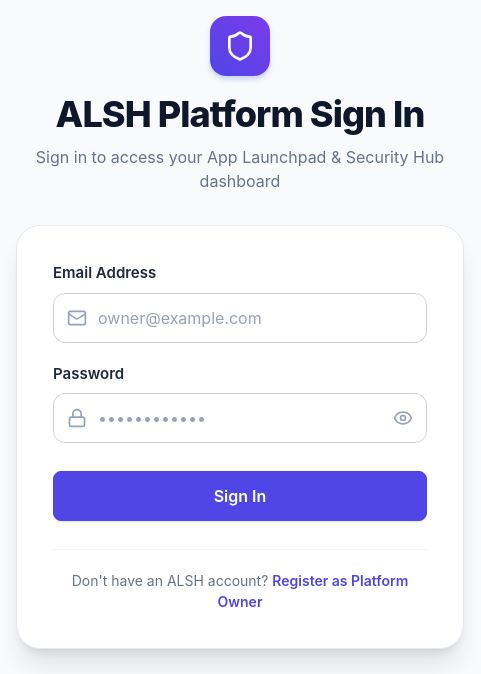
Scenario: Frontend Shell & Authentication Flows › Login Flow › should display error message on invalid credentials without crashing
Type "bad@example.com" into the field with placeholder "owner@example.com" at (240, 318), box left=53, top=292, right=427, bottom=342
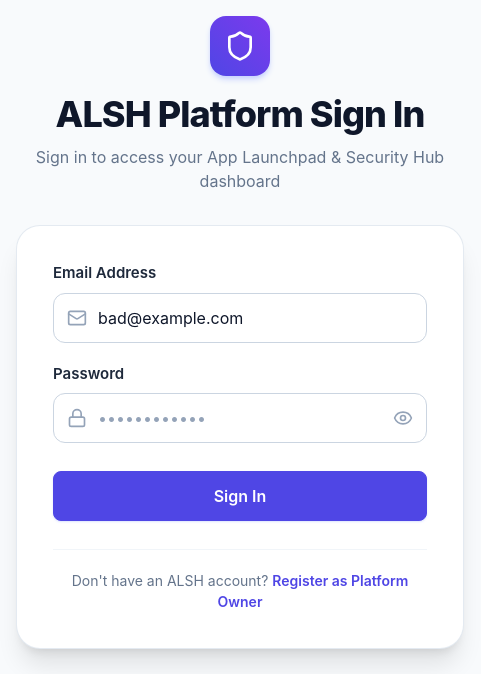
Type "wrongpass" into the password field with placeholder "••••••••••••" at (240, 418), box left=53, top=393, right=427, bottom=443
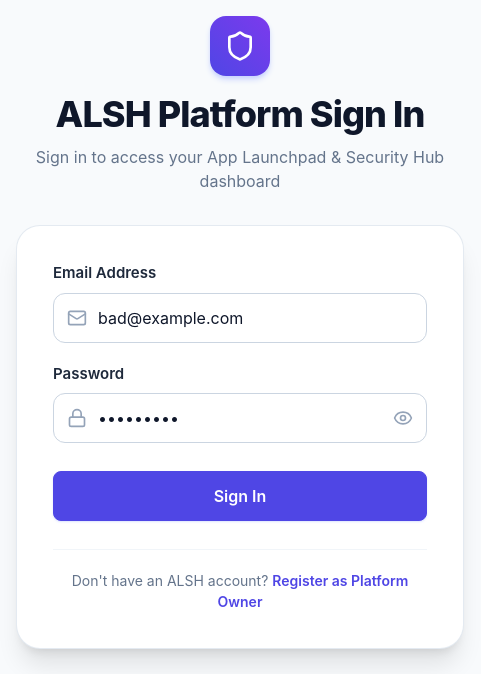
Click the button "Sign In" at (240, 496), box left=53, top=471, right=427, bottom=521
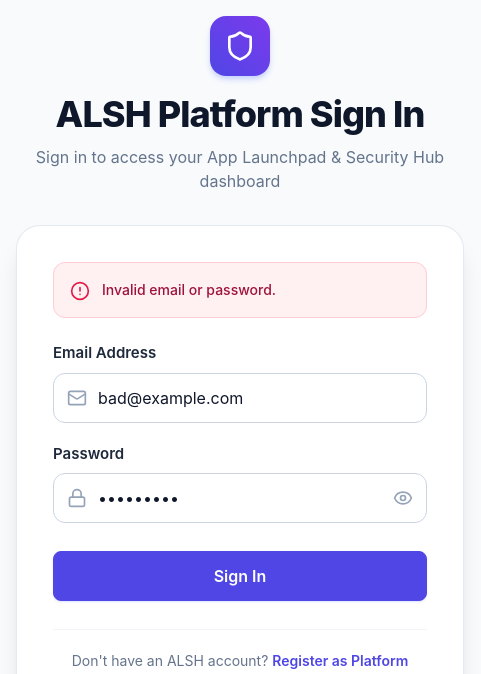
Result: the text "Invalid email or password." is shown at left=102, top=279, right=276, bottom=300
